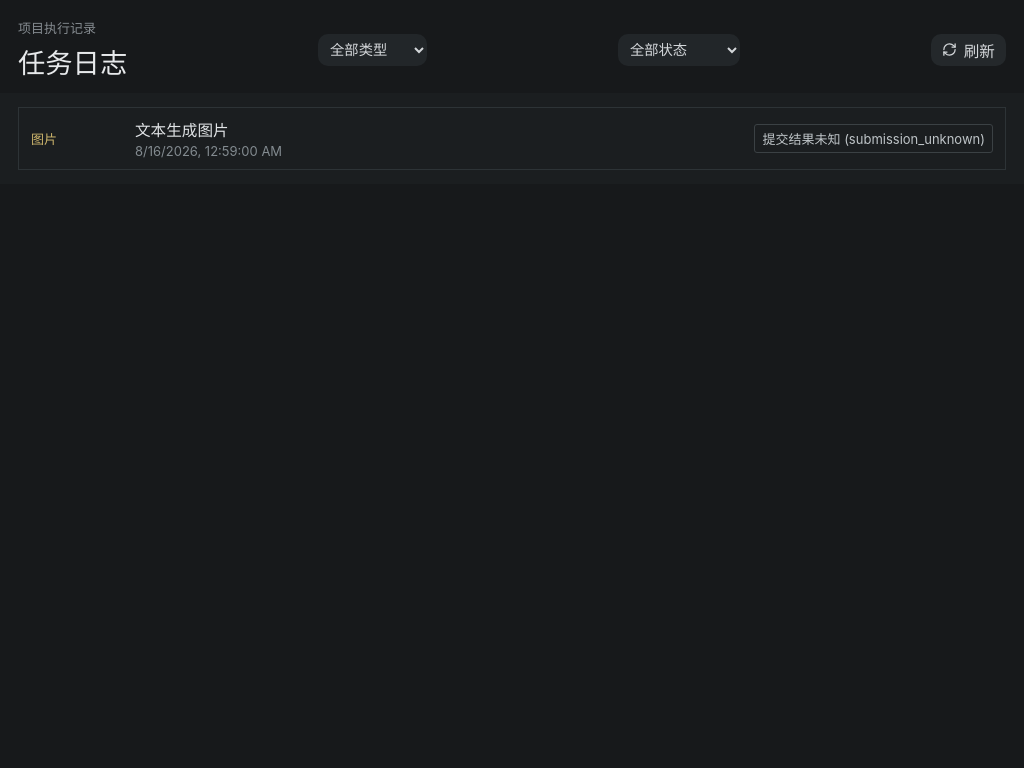
TaskLogView › shows an uncertain image submission instead of running and advises checking the Provider
Click the button "图片 文本生成图片 8/16/2026, 12:59:00 AM 提交结果未知 (submission_unknown)" at (182, 130), box [18, 107, 1006, 170]
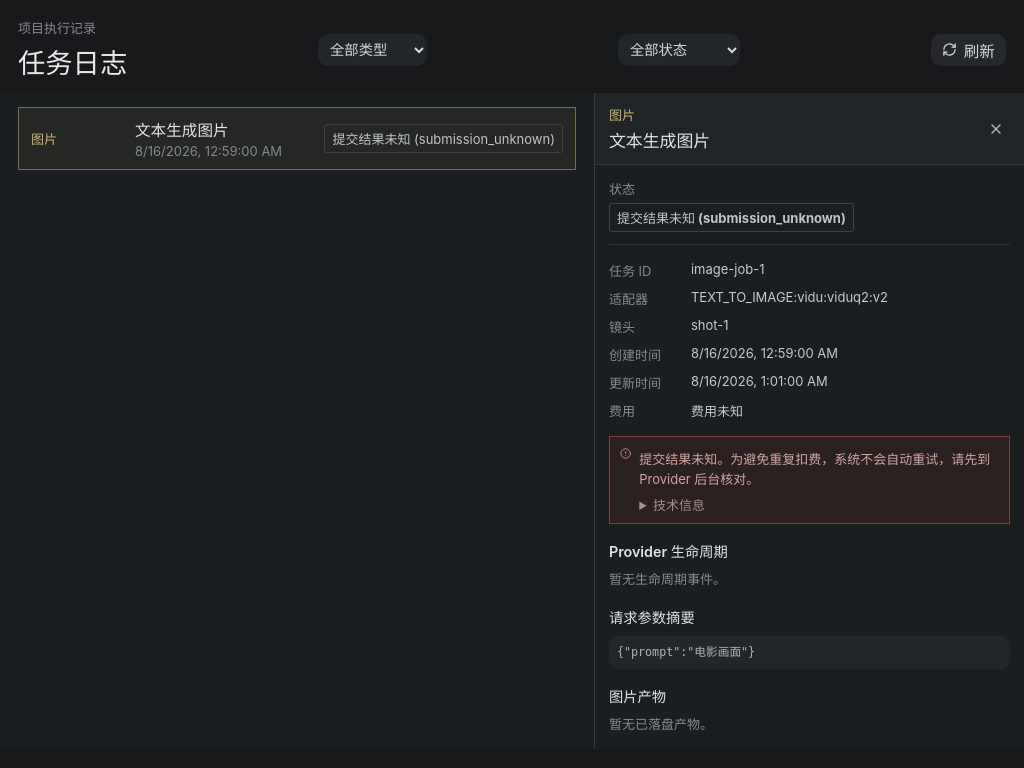
Result: the heading "请求参数摘要" is shown at [609, 608, 695, 626]
Result: the message shows "不会自动重试" at [639, 451, 990, 486]
Result: the message shows "Provider 后台核对" at [639, 451, 990, 486]
